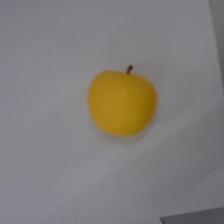yellow: (85, 62, 158, 138)
